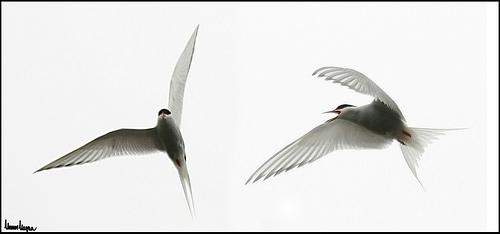bird: (31, 21, 205, 218), (240, 66, 474, 191)
